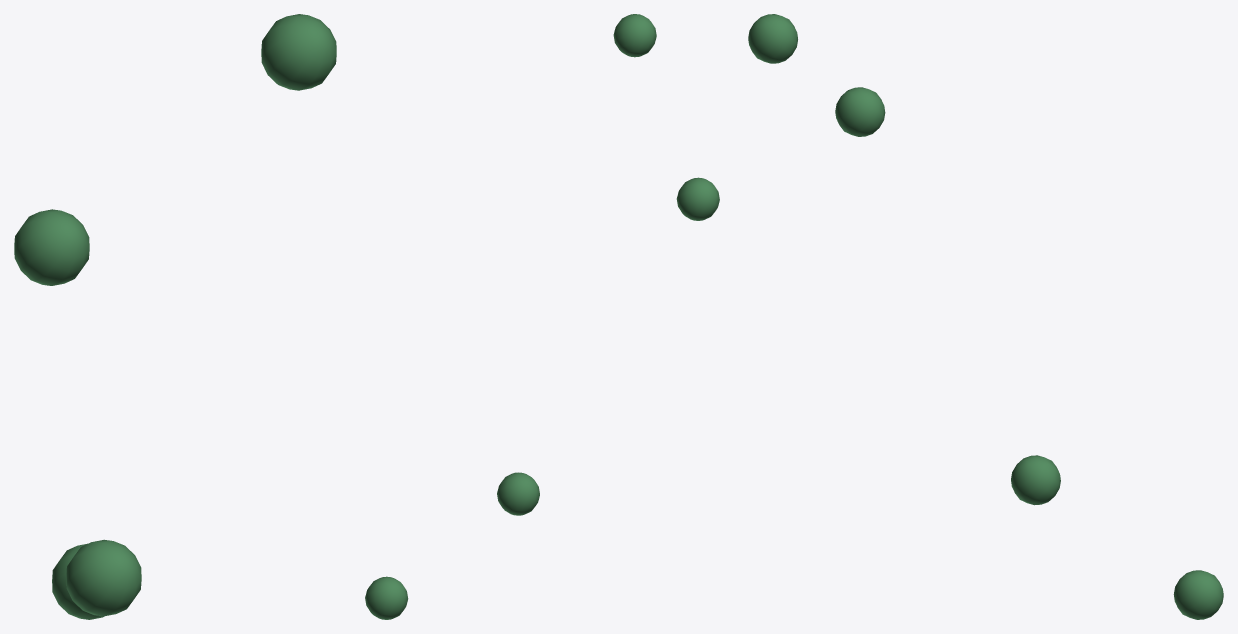
3 renders of one model, left to right at view 1: azimuth 30°, elevation 25°; view 2: azimuth 150°, elevation 25°; view 3: azimuth 270°, elevation 25°, orthographic. The views are drawn at different scales.
Parts seen in each view (by area): view 1: 右侧闭孔淋巴结; view 2: 右侧闭孔淋巴结; view 3: 右侧闭孔淋巴结.
Boxes of the visible parts, left/top/right/bottom form: 右侧闭孔淋巴结: left=14, top=14, right=336, bottom=619; 右侧闭孔淋巴结: left=365, top=14, right=719, bottom=619; 右侧闭孔淋巴结: left=748, top=14, right=1223, bottom=619.
Size of the model in its own units: 0.0208 by 0.0473 by 0.0361.
